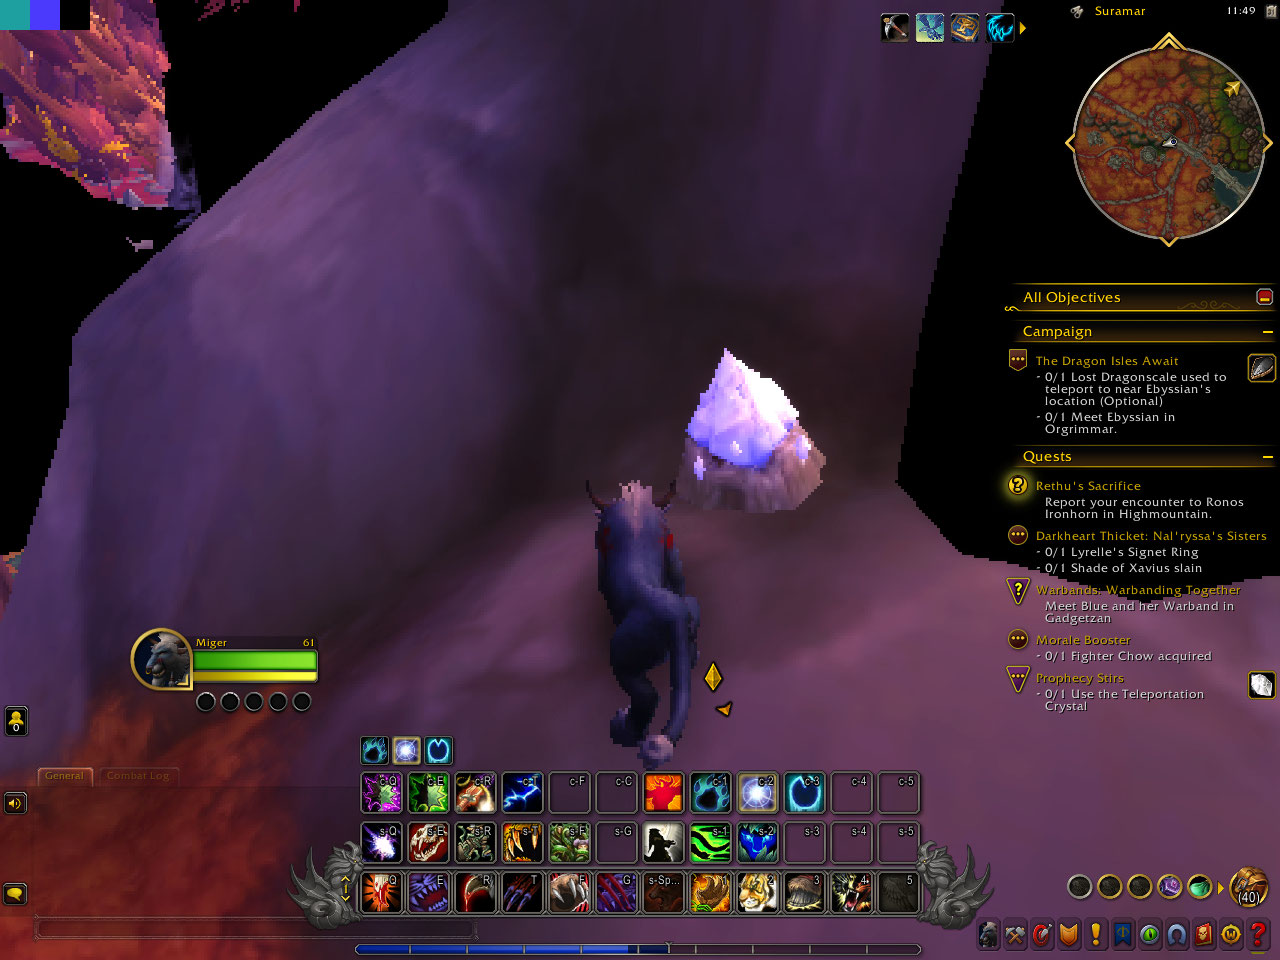ore: (674, 350, 826, 518)
